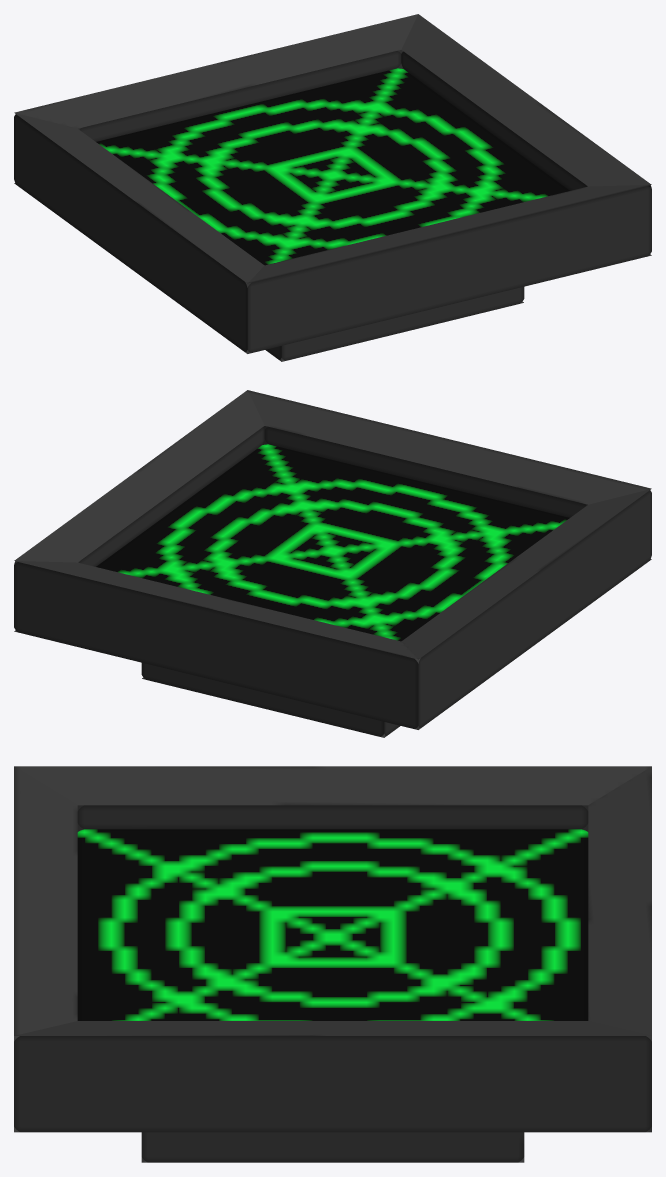
The picture shows the model from 3 angles, top to bottom: view 1: azimuth 30°, elevation 25°; view 2: azimuth 150°, elevation 25°; view 3: azimuth 270°, elevation 25°; orthographic projection. The views are drawn at different scales.
Visible parts, largest first — view 1: mesh; view 2: mesh; view 3: mesh.
Boxes of the visible parts, x1,y1,x2,y2 form: mesh: (14, 14, 651, 361); mesh: (14, 390, 651, 737); mesh: (14, 766, 651, 1162).
Size of the model in its own units: 300 by 93.75 by 300.
Materials: 1 (1 with a texture image).
